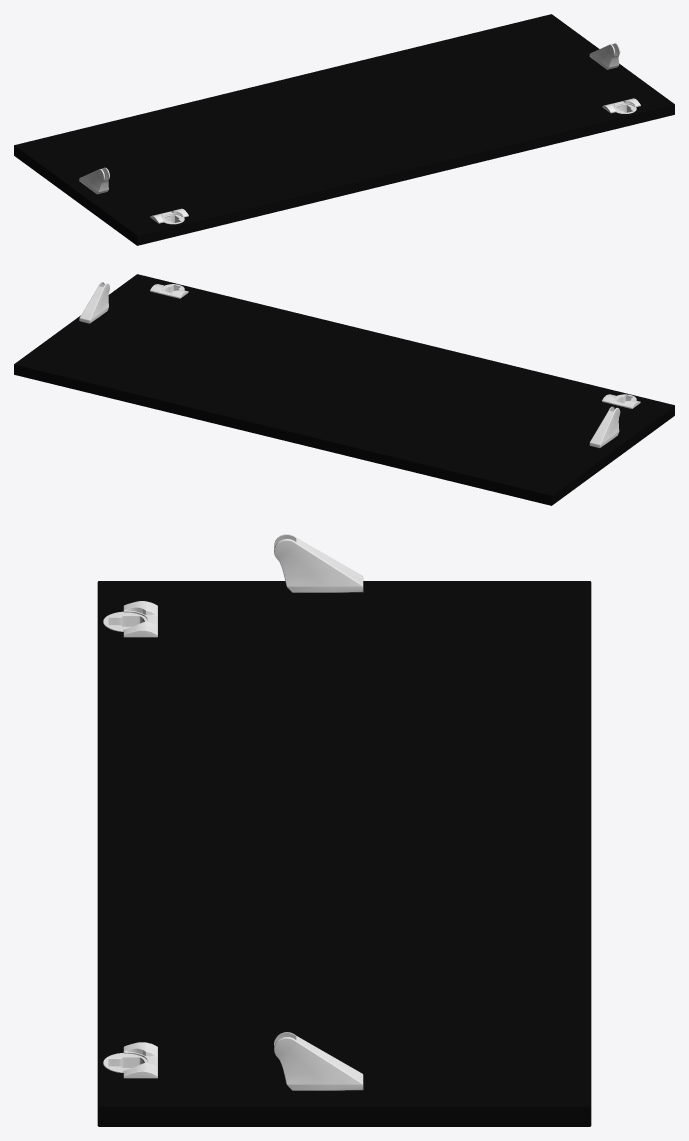
The model's file is SM_Kitchen_04_Door_02.obj.
The picture shows the model from 3 angles, top to bottom: view 1: azimuth 30°, elevation 25°; view 2: azimuth 150°, elevation 25°; view 3: azimuth 270°, elevation 25°; orthographic projection. The views are drawn at different scales.
Parts seen in each view (by area): view 1: SM_Kitchen_04_Door_02; view 2: SM_Kitchen_04_Door_02; view 3: SM_Kitchen_04_Door_02.
Boxes of the visible parts, x1,y1,x2,y2 form: SM_Kitchen_04_Door_02: (14,14,674,245); SM_Kitchen_04_Door_02: (14,274,674,505); SM_Kitchen_04_Door_02: (97,534,591,1126).
Bounding box in the file's own units: 0.9969 × 0.0697 × 0.396.
2 materials, 1 textured.
